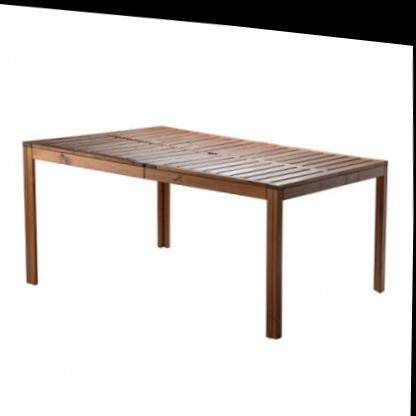Table: (16, 96, 395, 350)
